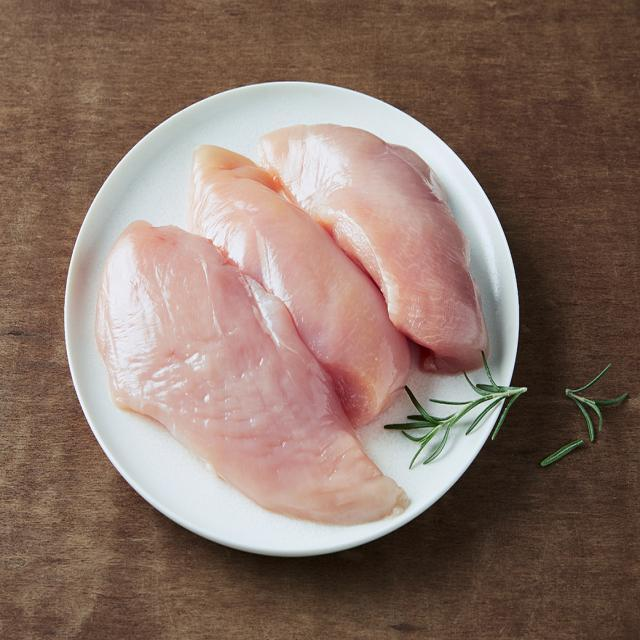chicken: (98, 222, 408, 534), (188, 146, 408, 422), (258, 119, 496, 367)
